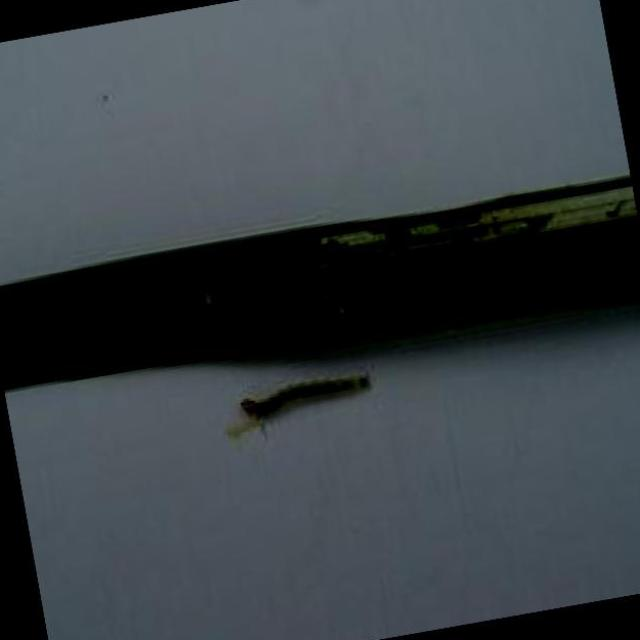leaf folder: (227, 373, 370, 438)
